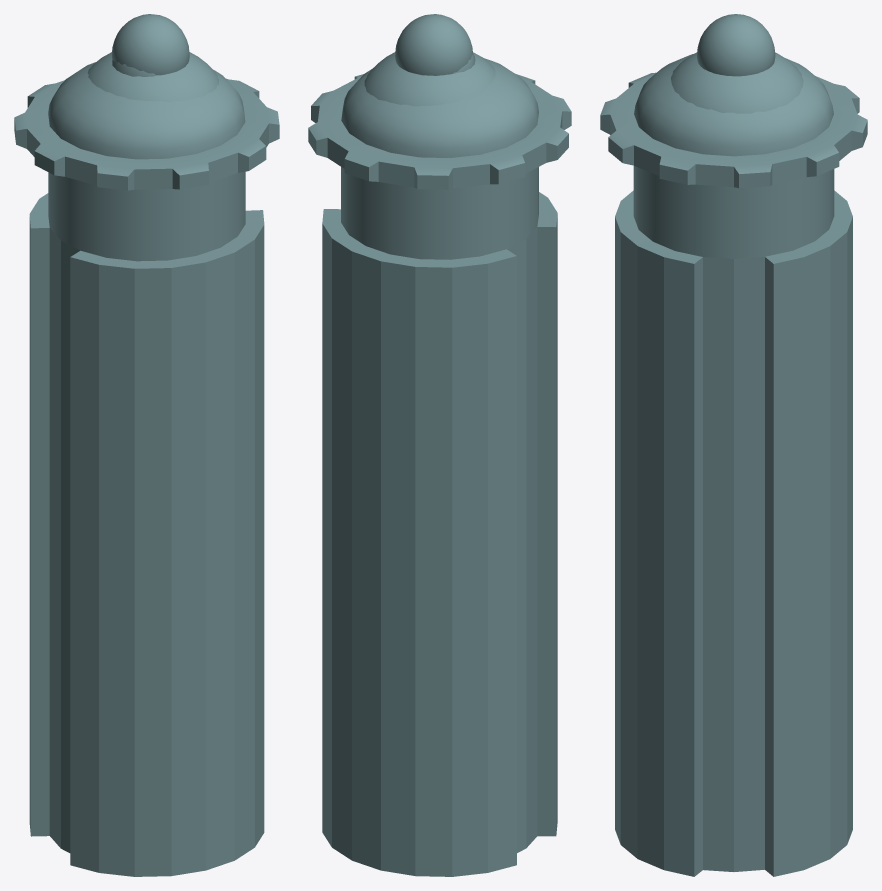
File: MidTower.fbx
The picture shows the model from 3 angles, left to right: view 1: azimuth 30°, elevation 25°; view 2: azimuth 150°, elevation 25°; view 3: azimuth 270°, elevation 25°; orthographic projection.
Parts seen in each view (by area): view 1: TowerMain, TowerUpper, TowerTop; view 2: TowerMain, TowerUpper, TowerTop; view 3: TowerMain, TowerUpper, TowerTop.
Part boxes in pixels (x1,y1,x2,y2): TowerMain: (14,60,279,876); TowerUpper: (87,52,218,102); TowerTop: (112,14,189,75); TowerMain: (308,53,571,876); TowerUpper: (364,52,495,106); TowerTop: (395,14,472,75); TowerMain: (600,54,867,876); TowerUpper: (671,52,803,113); TowerTop: (697,14,775,76).
Size of the model in its own units: 415 by 1395 by 415.
